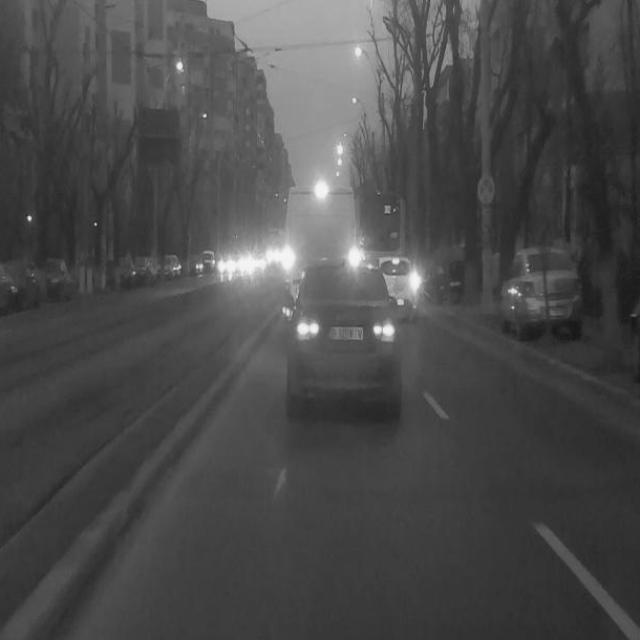licenseplate: (325, 325, 366, 343)
